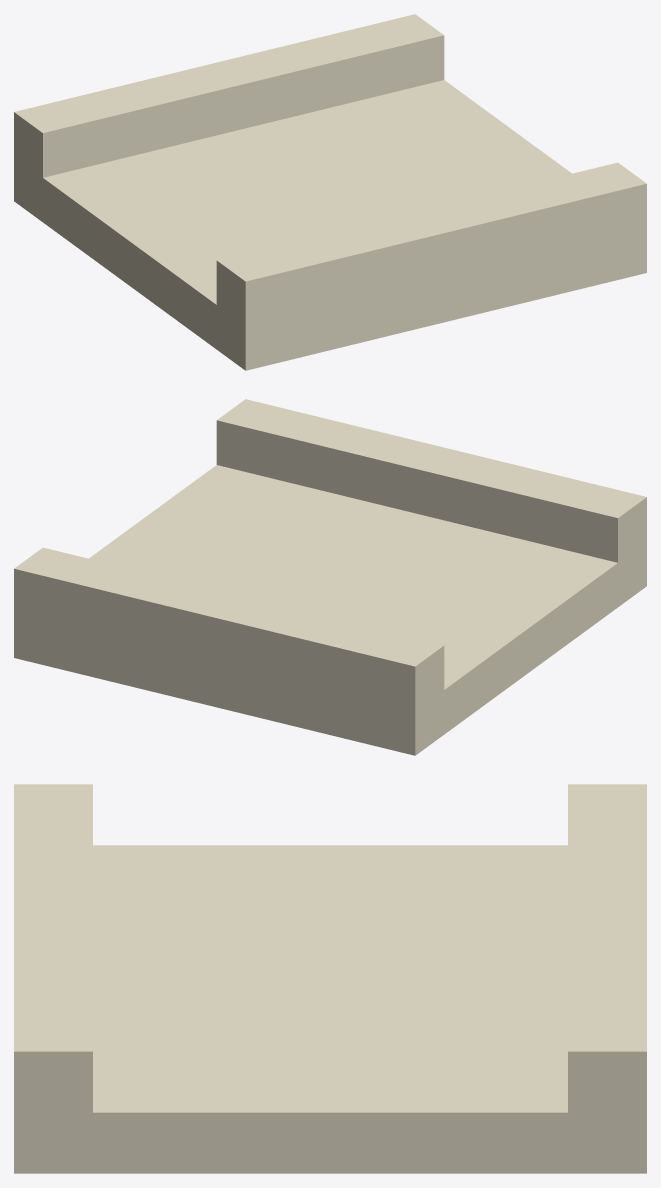
The model's file is modularBuildings_013.fbx.
The picture shows the model from 3 angles, top to bottom: view 1: azimuth 30°, elevation 25°; view 2: azimuth 150°, elevation 25°; view 3: azimuth 270°, elevation 25°; orthographic projection. The views are drawn at different scales.
Parts seen in each view (by area): view 1: Mesh1_Group1 Model; view 2: Mesh1_Group1 Model; view 3: Mesh1_Group1 Model.
Part boxes in pixels (left/top/right/bottom): Mesh1_Group1 Model: left=14, top=14, right=646, bottom=370; Mesh1_Group1 Model: left=14, top=399, right=646, bottom=755; Mesh1_Group1 Model: left=14, top=784, right=646, bottom=1173.
Size of the model in its own units: 1 by 0.2125 by 1.
